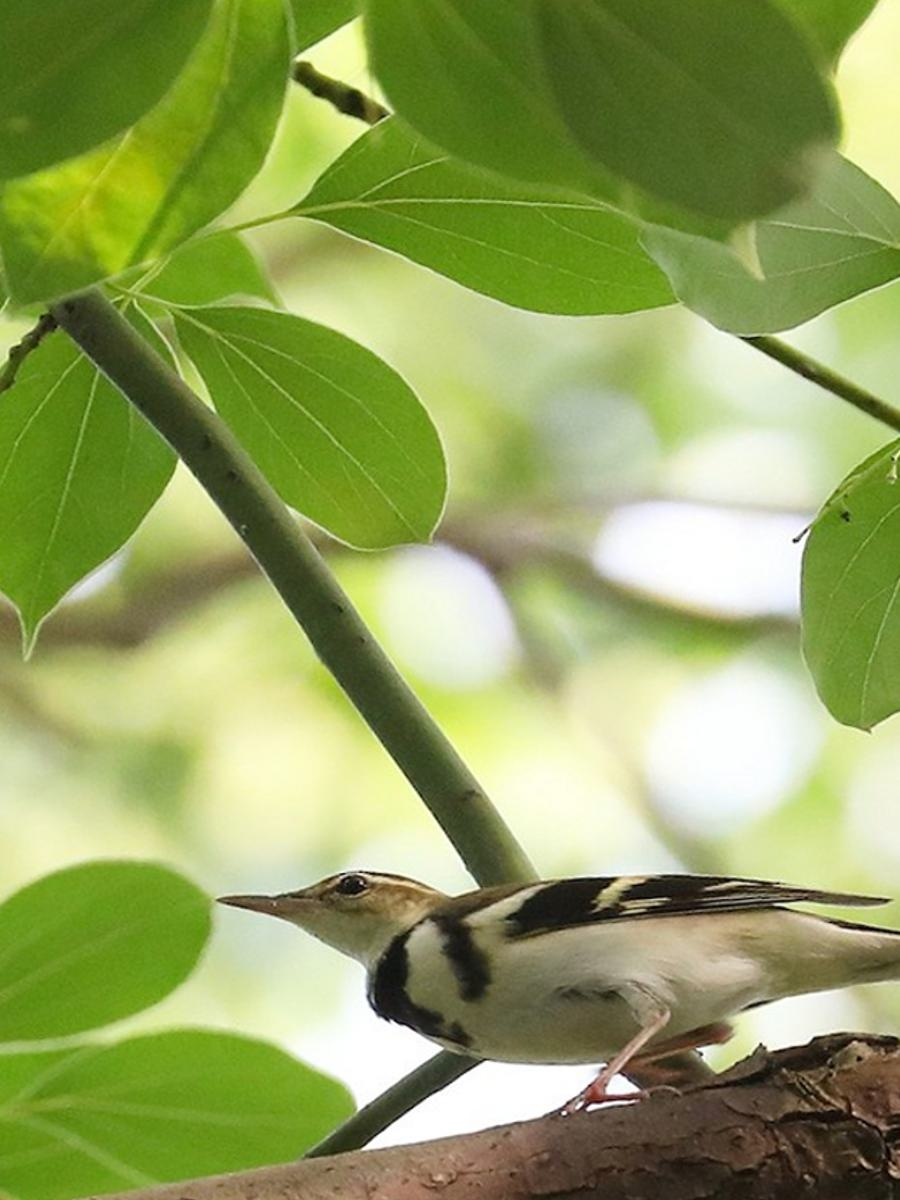wagtail: (234, 859, 896, 1088)
